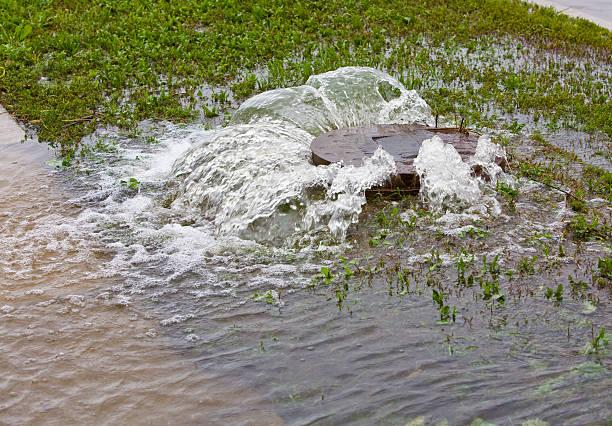drainage overflow-repair-: (54, 53, 525, 310)
